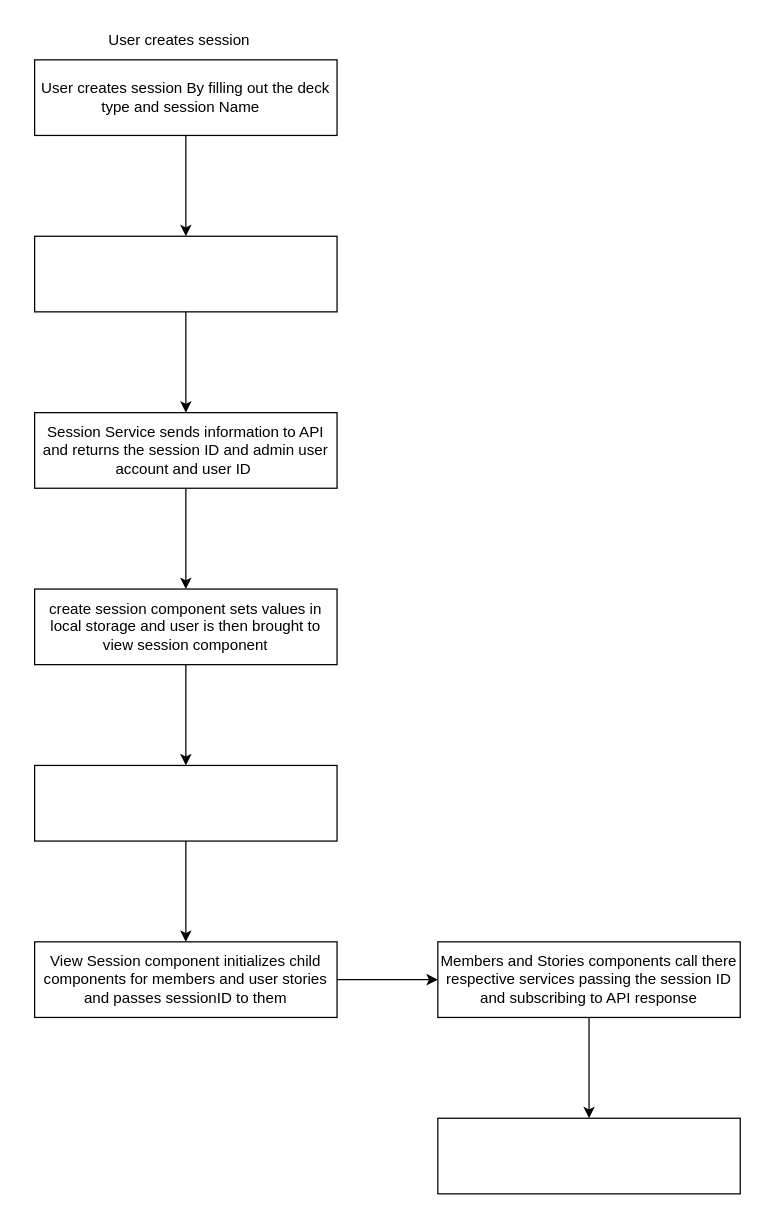
This 762x1216 diagram has some shape labels left out. Each missing label, with the centre of its shape:
"Create session Component sends reactive form information to session Service" goes at point (185, 273).
"View Session component gets passed the session ID via input decorator" goes at point (185, 802).
"Views are updated and results are looped through" goes at point (588, 1155).
